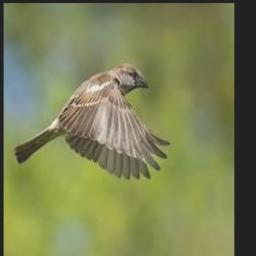Sparrow: (14, 63, 170, 178)
